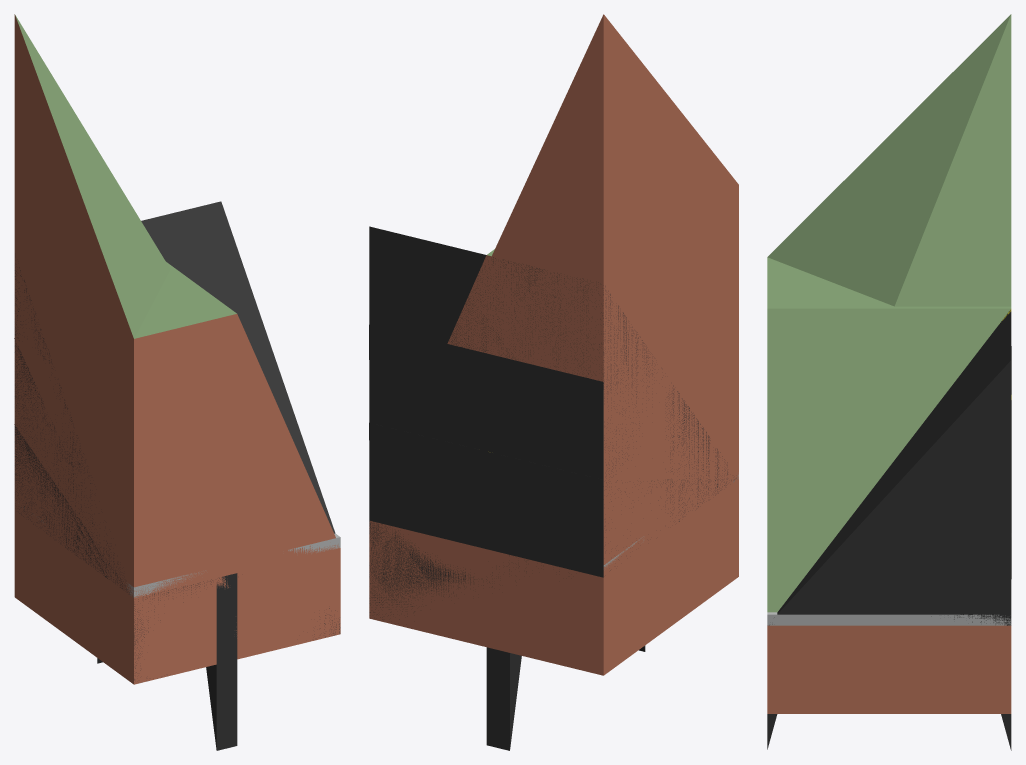
The model's file is Cenarios.fbx_Grounds.fbx.
3 renders of one model, left to right at view 1: azimuth 30°, elevation 25°; view 2: azimuth 150°, elevation 25°; view 3: azimuth 270°, elevation 25°, orthographic. The views are drawn at different scales.
Visible parts, largest first — view 1: Ground.Inclinado V3.1 12X, Ground.Inclinado V2 12X, Ground.Inclinado V2 8X, GrassGround, SideWalk V1, AsfaltoCont.Incli 12x, Ground.Inclinado V2 4X, Ground.Inclinado V4 12X, Ground.Inclinado V3.1 4X, SideWalk V2, Ground.Inclinado v4 4X, Ground.Inclinado V3.1 8X (+8 smaller); view 2: Ground.Inclinado V3.1 12X, Ground.Inclinado V3.1 8X, Ground.Inclinado V2 12X, AsfaltoCont-Incli 4x, AsfaltoCont-Incli 8x, SideWalk V2, GrassGround, Ground.Inclinado V4 12X, AsfaltoCont.Incli 12x, AsfaltoPontilhado.Incli 12x, Ground.Inclinado V1 4X, Ground.Inclinado V2 4X (+11 smaller); view 3: Ground.Inclinado V2 12X, Ground.Inclinado V3.1 12X, AsfaltoPontilhado.Incli 12x, SideWalk V3, AsfaltoCont.Incli 12x, AsfaltoCont-Incli 8x, Ground.Inclinado V6 12X, AsfaltoPontilhado.Incli 4x, AsfaltoPontilhado.Incli 8x, SideWalk V2, GrassGround, AsfaltoCont-Incli 4x (+1 smaller).
Part boxes in pixels (x1,y1,x2,y2): Ground.Inclinado V3.1 12X: (14,14,331,593); Ground.Inclinado V2 12X: (14,252,338,595); Ground.Inclinado V2 8X: (15,338,338,597); GrassGround: (14,511,340,684); SideWalk V1: (134,534,340,684); AsfaltoCont.Incli 12x: (141,201,335,533); Ground.Inclinado V2 4X: (18,428,338,597); Ground.Inclinado V4 12X: (14,252,234,586); Ground.Inclinado V3.1 4X: (14,338,133,590); SideWalk V2: (18,503,340,668); Ground.Inclinado v4 4X: (14,444,234,596); Ground.Inclinado V3.1 8X: (14,166,335,594); Ground.Inclinado V3.1 12X: (454,14,738,575); Ground.Inclinado V3.1 8X: (487,185,738,568); Ground.Inclinado V2 12X: (447,185,738,576); AsfaltoCont-Incli 4x: (369,423,724,577); AsfaltoCont-Incli 8x: (369,325,715,521); SideWalk V2: (369,479,738,675); GrassGround: (369,504,738,675); Ground.Inclinado V4 12X: (603,187,737,550); AsfaltoCont.Incli 12x: (369,226,598,359); AsfaltoPontilhado.Incli 12x: (369,226,734,570); Ground.Inclinado V1 4X: (603,478,737,576); Ground.Inclinado V2 4X: (604,381,738,479); Ground.Inclinado V2 12X: (767,257,1010,612); Ground.Inclinado V3.1 12X: (767,14,1011,306); AsfaltoPontilhado.Incli 12x: (778,310,1011,625); SideWalk V3: (767,614,1010,713); AsfaltoCont.Incli 12x: (777,309,1011,625); AsfaltoCont-Incli 8x: (772,346,1011,624); Ground.Inclinado V6 12X: (772,306,1011,612); AsfaltoPontilhado.Incli 4x: (800,537,1011,624); AsfaltoPontilhado.Incli 8x: (785,449,1011,624); SideWalk V2: (767,626,1011,713); GrassGround: (767,625,1011,678); AsfaltoCont-Incli 4x: (807,533,1011,613).
Size of the model in its own units: 1000 by 3100 by 1003.
